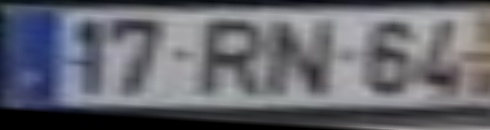1: (75, 21, 114, 102)
4: (422, 24, 481, 105)
6: (360, 20, 430, 103)
7: (113, 22, 171, 104)
N: (272, 20, 344, 101)
R: (199, 23, 273, 105)
